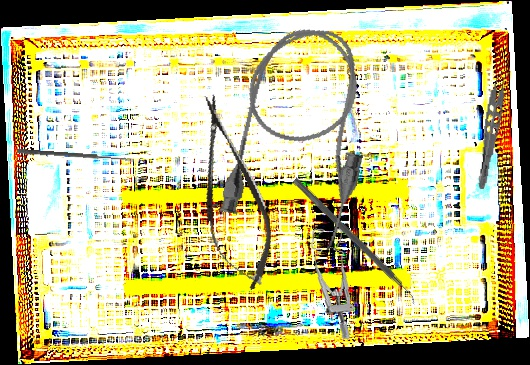Cannula: (216, 15, 387, 254)
Micro Scissor: (179, 88, 284, 296)
Spatula Surgical: (287, 177, 421, 307)
Speculum: (303, 226, 361, 340)
Surgical Spoon: (16, 148, 135, 163)
Tissue Forceps: (475, 69, 513, 191)
